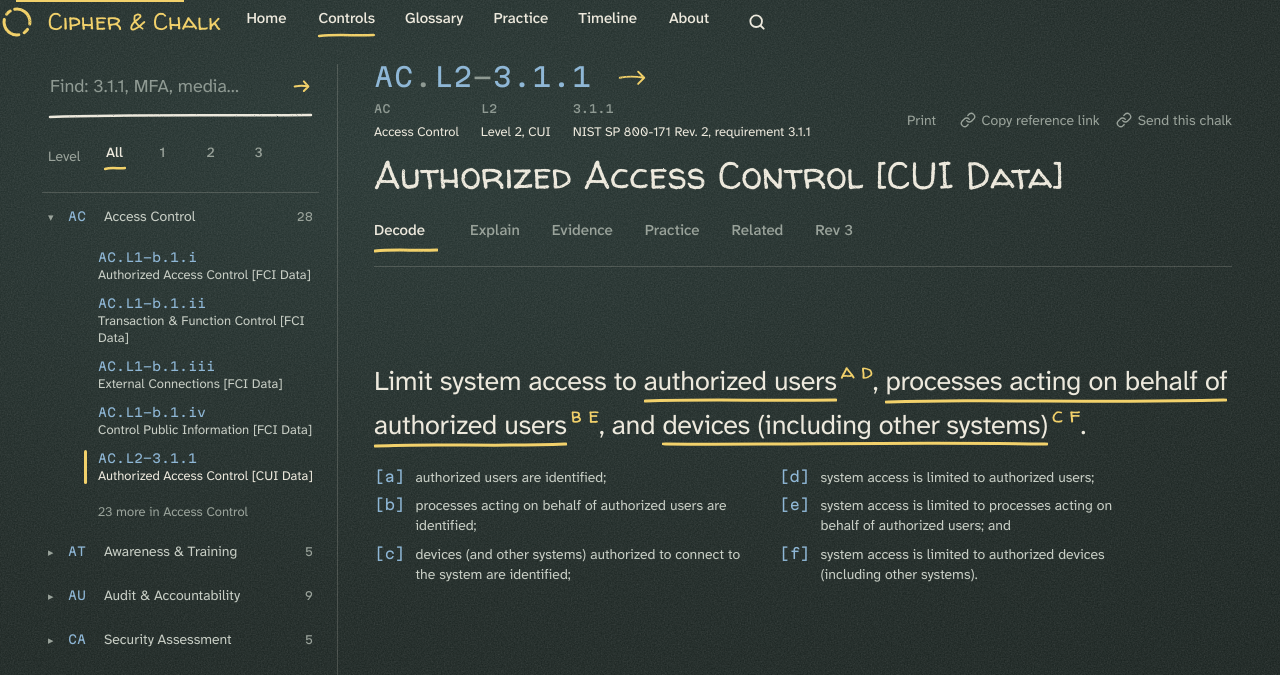
Control Explorer learning experience › changes the explanation when a reader chooses a different chalk
Click the link "Explain": x=495, y=230 [470,220,520,240]
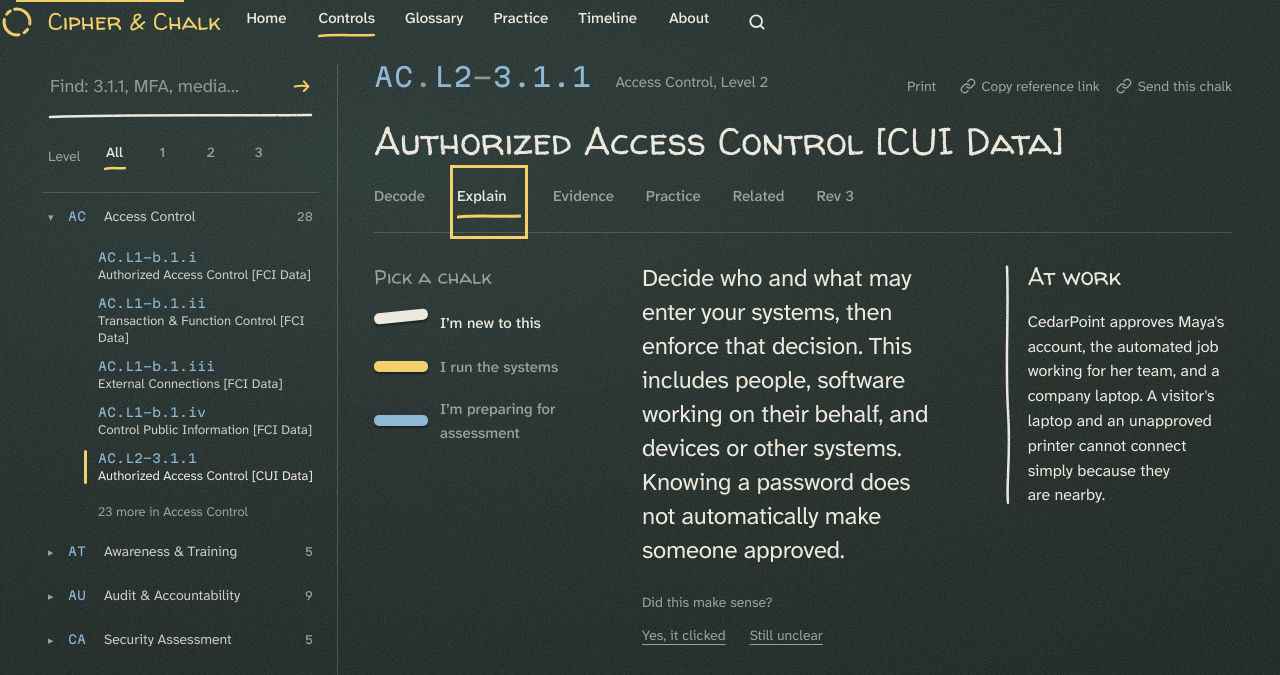
Result: the panel named "I’m new to this" is shown at [642,261,1232,658]
Result: the panel named "I’m new to this" shows "Decide who and what may enter your systems, then enforce that decision. This includes people, software working on their behalf, and devices or other systems. Kn" at [642,262,928,566]
Click the tab "I run the systems": x=484, y=367 [374,345,594,389]
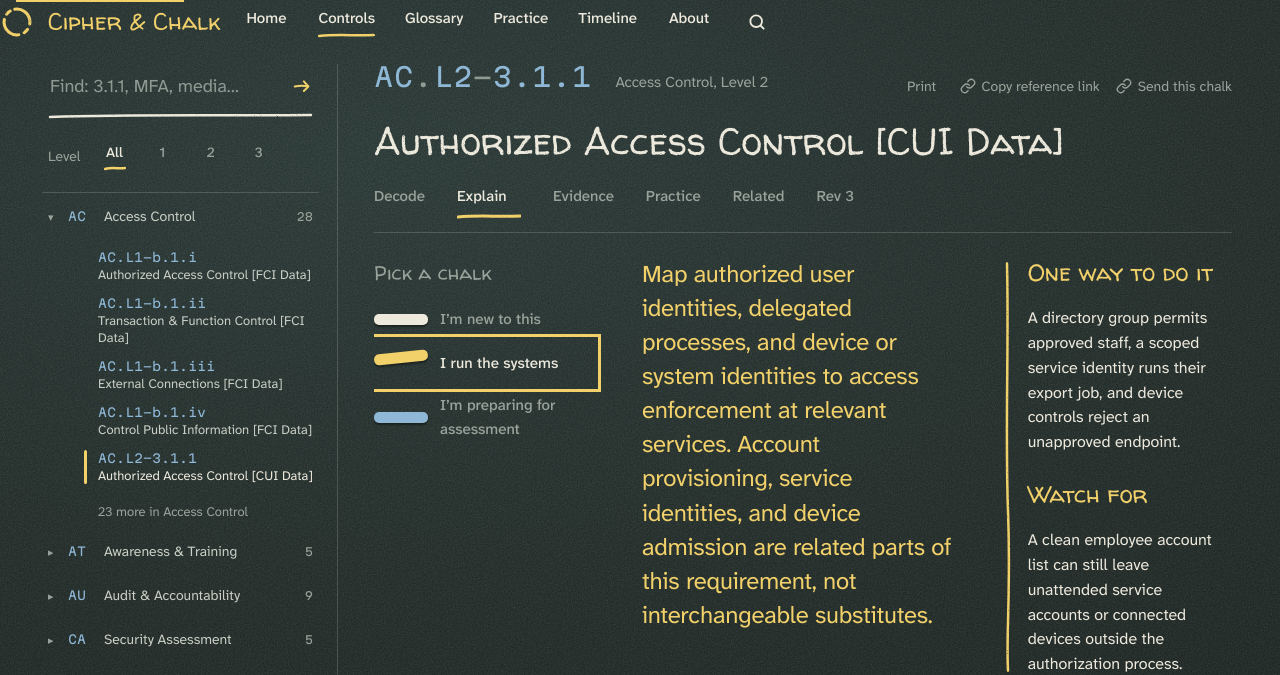
Result: the panel named "I run the systems" shows "Map authorized user identities, delegated processes, and device or system identities to access enforcement at relevant services. Account provisioning, service i" at [642,258,951,631]
Click the tab "I’m preparing for assessment": x=484, y=417 [374,385,594,449]
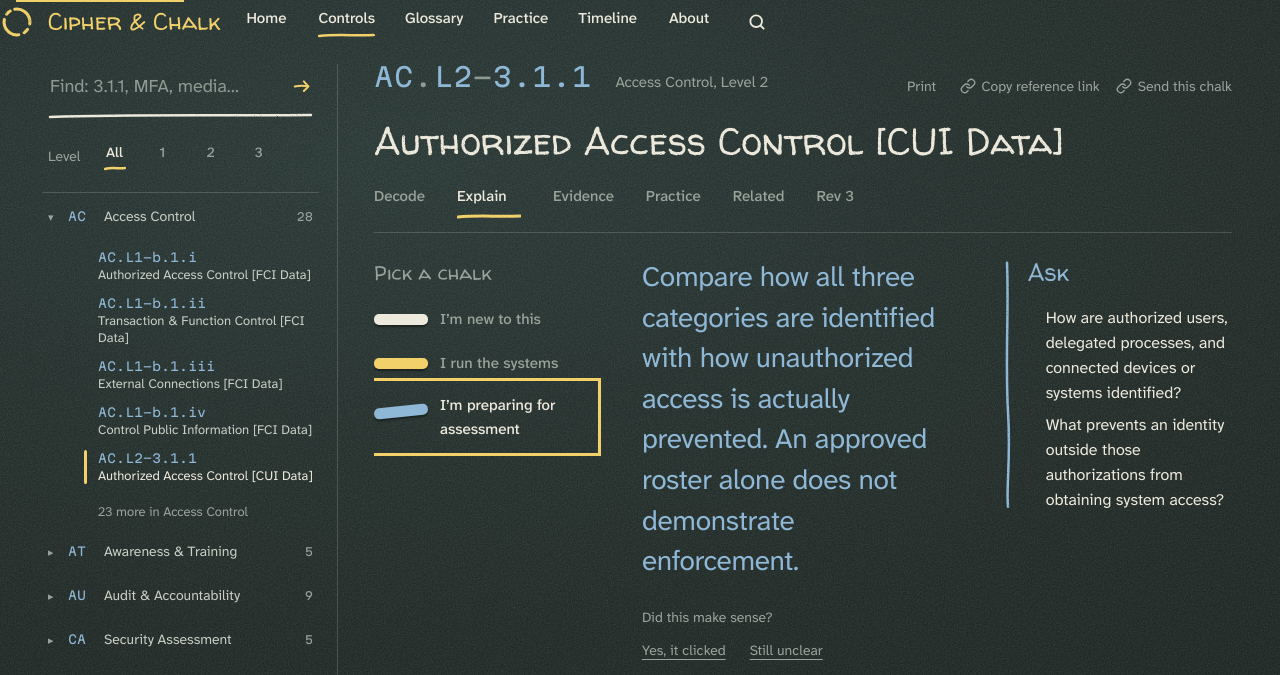
Result: the panel named "I’m preparing for assessment" shows "Compare how all three categories are identified with how unauthorized access is actually prevented. An approved roster alone does not demonstrate enforcement." at [642,258,935,579]
Result: the panel named "I’m preparing for assessment" shows "How are authorized users, delegated processes, and connected devices or systems identified?" at [1046,307,1228,403]
Click the tab "I’m new to this": x=484, y=319 [374,297,594,341]
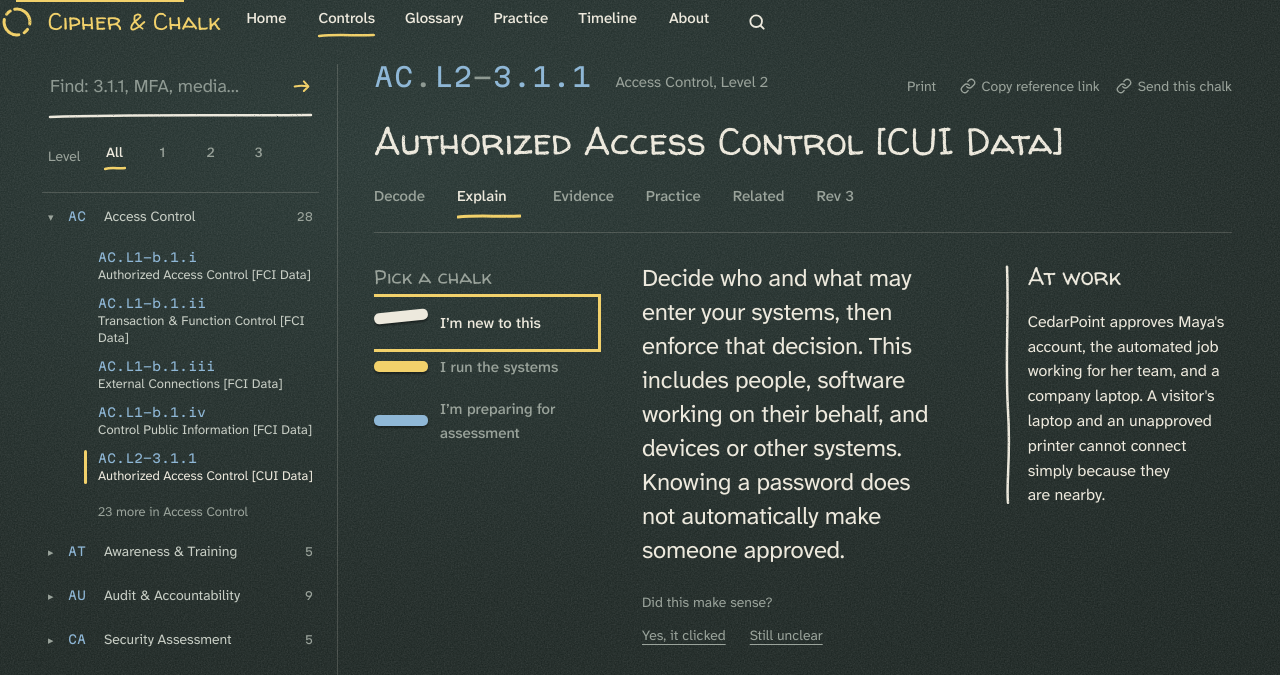
Result: the panel named "I’m new to this" shows "Decide who and what may enter your systems, then enforce that decision. This includes people, software working on their behalf, and devices or other systems. Kn" at [642,262,928,566]
